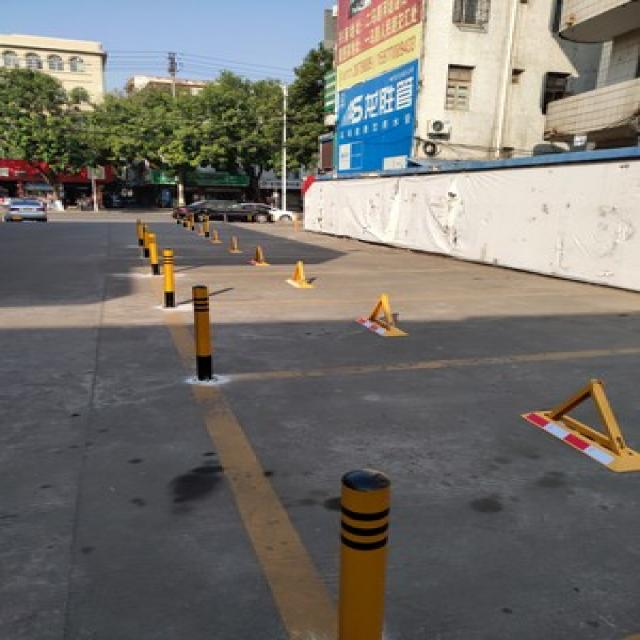car: (2, 195, 45, 222)
warning_column: (326, 464, 399, 637), (188, 283, 213, 379), (158, 244, 177, 306)
